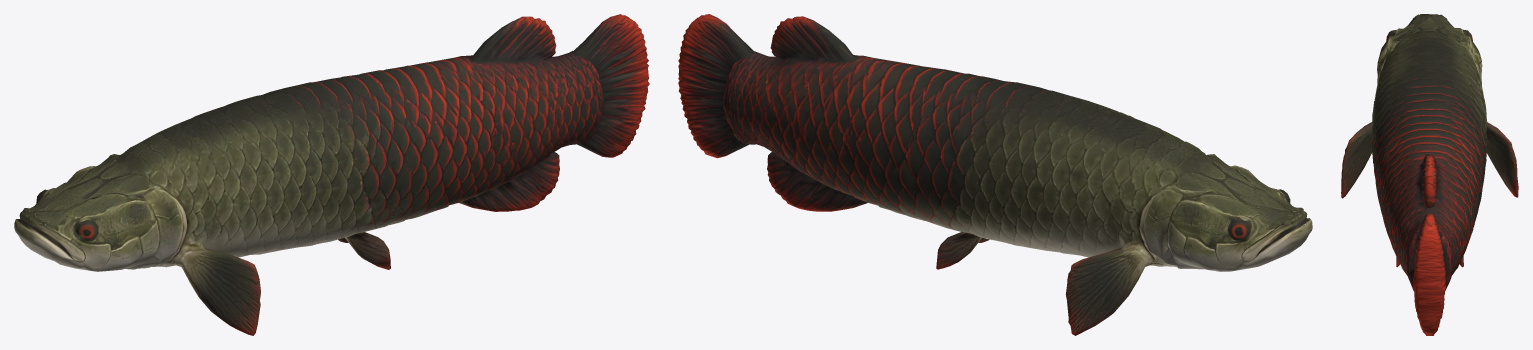
File: fish-arapaima.glb
The picture shows the model from 3 angles, left to right: view 1: azimuth 30°, elevation 25°; view 2: azimuth 150°, elevation 25°; view 3: azimuth 270°, elevation 25°; orthographic projection. The views are drawn at different scales.
Visible parts, largest first — view 1: tripo_node_5005f849-8508-4585-b1c6-6c0d2e8d58a2; view 2: tripo_node_5005f849-8508-4585-b1c6-6c0d2e8d58a2; view 3: tripo_node_5005f849-8508-4585-b1c6-6c0d2e8d58a2.
Boxes of the visible parts, x1,y1,x2,y2 form: tripo_node_5005f849-8508-4585-b1c6-6c0d2e8d58a2: (14,14,649,335); tripo_node_5005f849-8508-4585-b1c6-6c0d2e8d58a2: (678,14,1312,335); tripo_node_5005f849-8508-4585-b1c6-6c0d2e8d58a2: (1341,14,1518,335).
Size of the model in its own units: 1 by 0.3118 by 0.284.
1 material, 1 textured.
